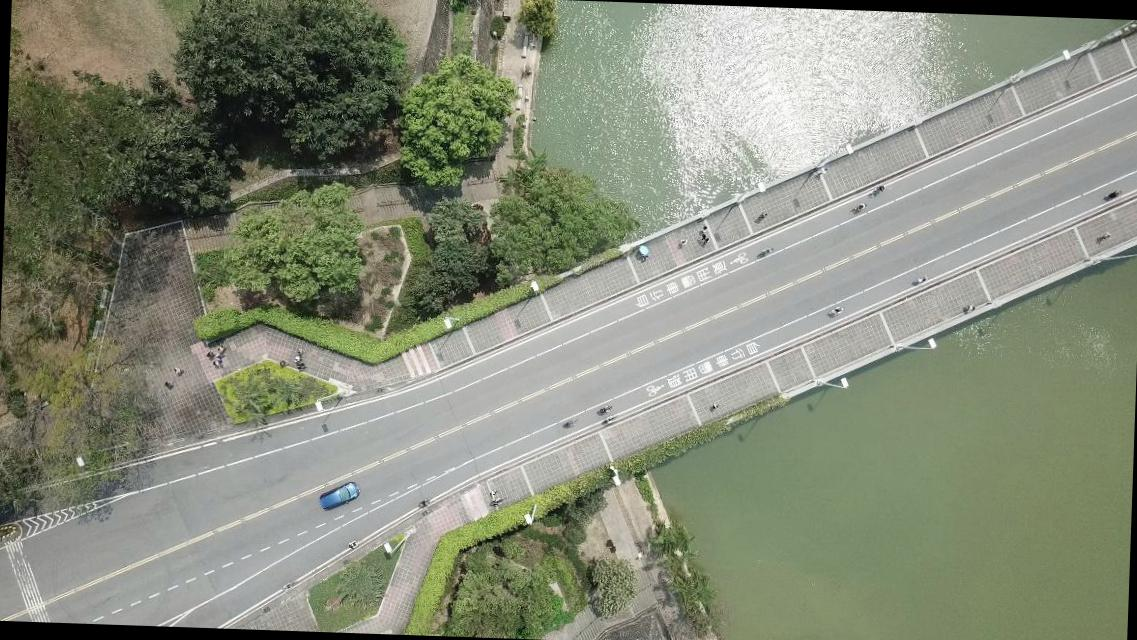vehicle: (318, 480, 358, 510)
